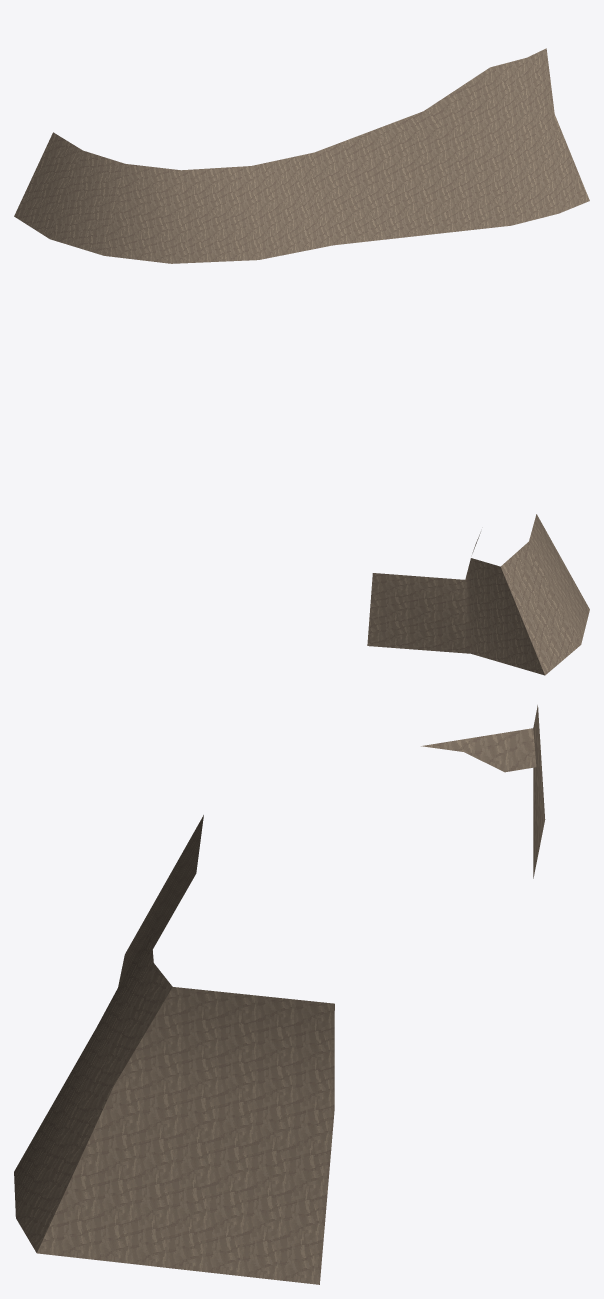
The model's file is kd_stage_1366d7_21_2_bounded.glb.
3 views of the same model, one above another, from view 1: azimuth 30°, elevation 25°; view 2: azimuth 150°, elevation 25°; view 3: azimuth 270°, elevation 25° (orthographic). The views are drawn at different scales.
Parts seen in each view (by area): view 1: kd_stage_1366d7_21_2_bounded; view 2: kd_stage_1366d7_21_2_bounded; view 3: kd_stage_1366d7_21_2_bounded.
Boxes of the visible parts, box(x1,y1,x2,y2) form: kd_stage_1366d7_21_2_bounded: box(14, 48, 589, 263); kd_stage_1366d7_21_2_bounded: box(367, 514, 589, 675); kd_stage_1366d7_21_2_bounded: box(14, 705, 545, 1284).
Bounding box in the file's own units: 169 × 43.79 × 88.68.
1 material, 1 textured.
